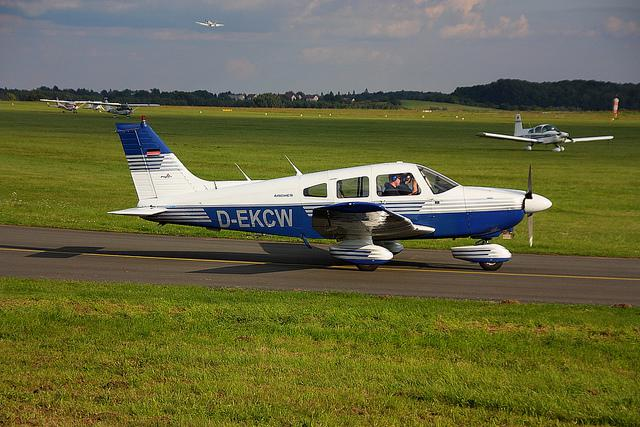Airplane: (111, 123, 554, 273), (476, 115, 616, 153), (87, 103, 162, 118), (40, 98, 85, 114), (196, 21, 226, 29)
